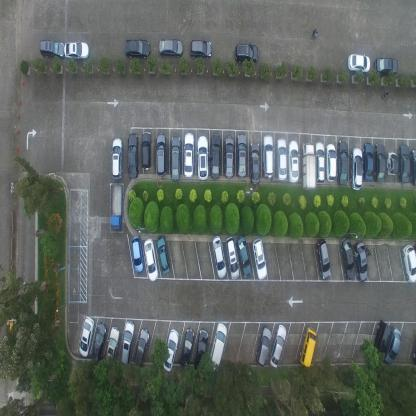car: (370, 319, 393, 370), (207, 322, 227, 374), (269, 324, 287, 368), (299, 325, 317, 368), (251, 236, 268, 281), (78, 315, 95, 358), (224, 236, 240, 281), (193, 329, 209, 374), (132, 327, 150, 367), (236, 234, 252, 278), (162, 328, 178, 372), (91, 320, 107, 364), (255, 326, 272, 367), (120, 320, 135, 366), (315, 238, 331, 281), (302, 142, 316, 191), (384, 326, 401, 366), (341, 236, 356, 281), (211, 235, 226, 279), (105, 326, 120, 368), (110, 183, 123, 231), (349, 146, 363, 190), (144, 238, 158, 282), (124, 37, 150, 60), (156, 234, 170, 276), (180, 327, 194, 369), (196, 135, 209, 180), (63, 40, 90, 61), (38, 38, 65, 59), (210, 134, 222, 180), (262, 134, 274, 180), (402, 244, 416, 283), (189, 38, 213, 60), (111, 137, 123, 181), (170, 134, 181, 182), (236, 132, 247, 180), (288, 139, 300, 183), (233, 42, 258, 63), (355, 240, 368, 280), (348, 51, 370, 74), (127, 132, 138, 178), (249, 140, 260, 186), (314, 140, 325, 186), (158, 38, 183, 58), (374, 143, 386, 184), (276, 137, 287, 181), (140, 130, 152, 170), (338, 139, 348, 187), (132, 234, 144, 274), (374, 56, 399, 75), (224, 135, 235, 178), (184, 131, 194, 178), (325, 142, 336, 183), (399, 143, 410, 184), (156, 132, 166, 177), (363, 142, 373, 183), (387, 150, 398, 176), (410, 146, 416, 186)
